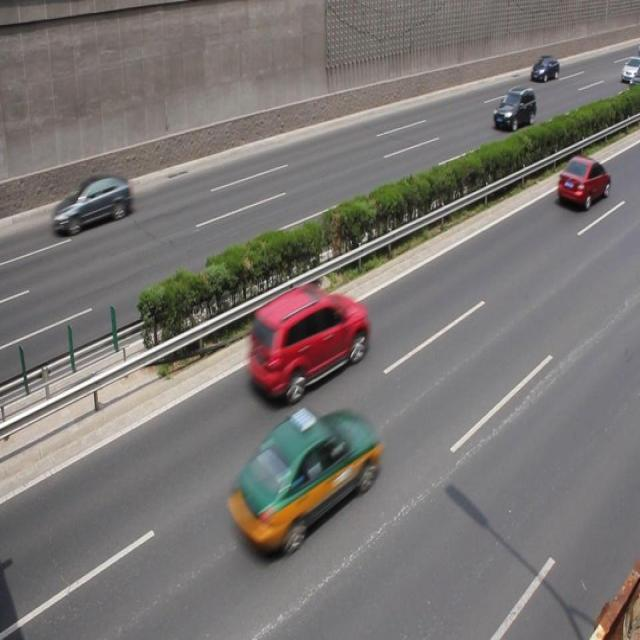car: (224, 404, 380, 557), (245, 283, 370, 403), (54, 172, 132, 237), (556, 155, 609, 210), (492, 85, 536, 133), (529, 53, 559, 84)
